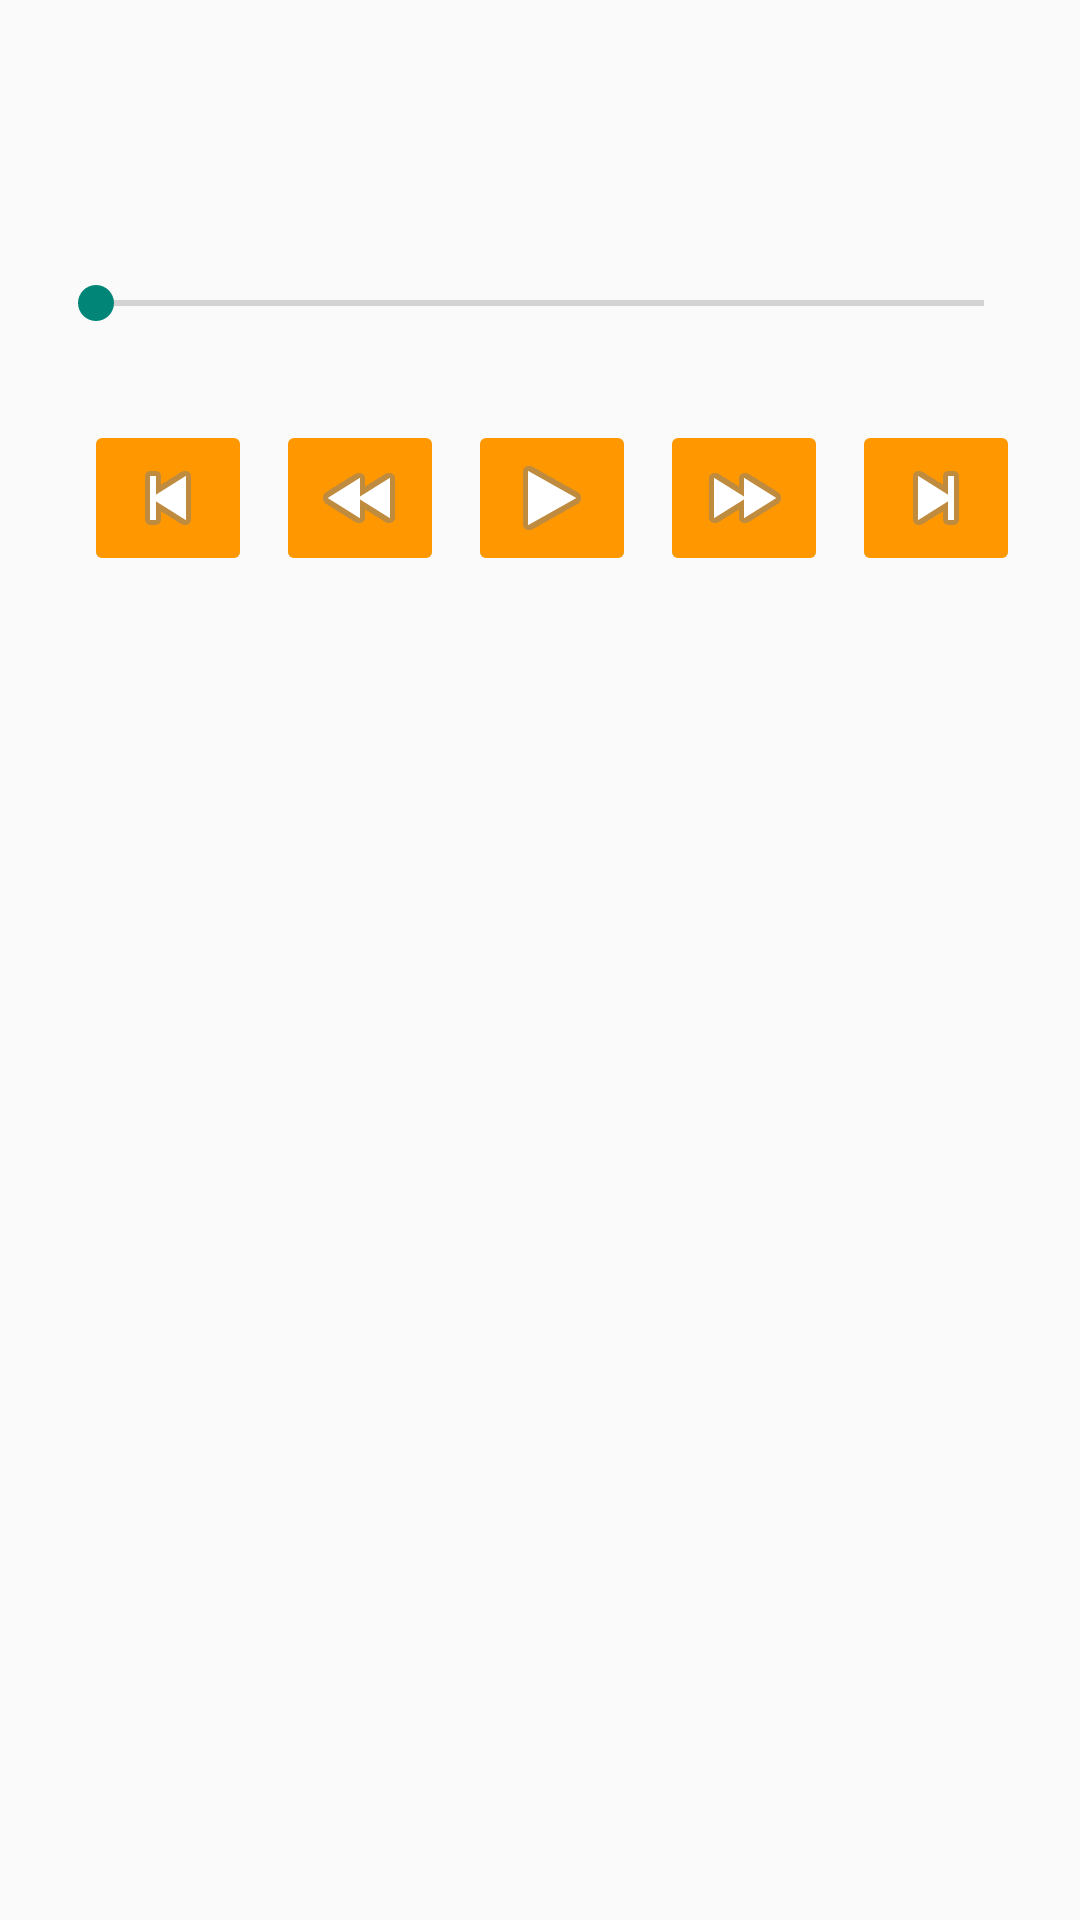

Icons on this 1080 x 1920 Android screen, each with the point to tap as (x=x, y=y):
next: (x=936, y=498)
play: (x=552, y=498)
previous: (x=168, y=498)
rew: (x=360, y=498)
